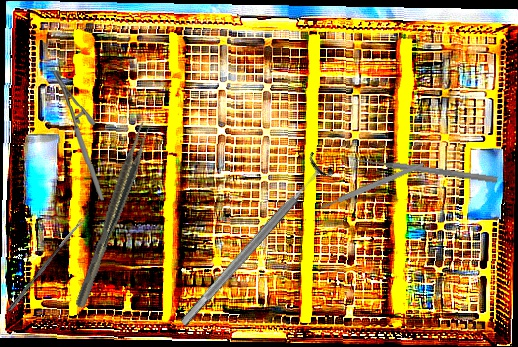Fixation Ring: (170, 150, 336, 335)
Needle Holder: (51, 68, 105, 202)
Pusher: (352, 154, 498, 185)
Scalpel Handle: (318, 160, 426, 212)
Surgical Spoon: (6, 217, 86, 314)
Tissue Forceps: (68, 119, 156, 310)
